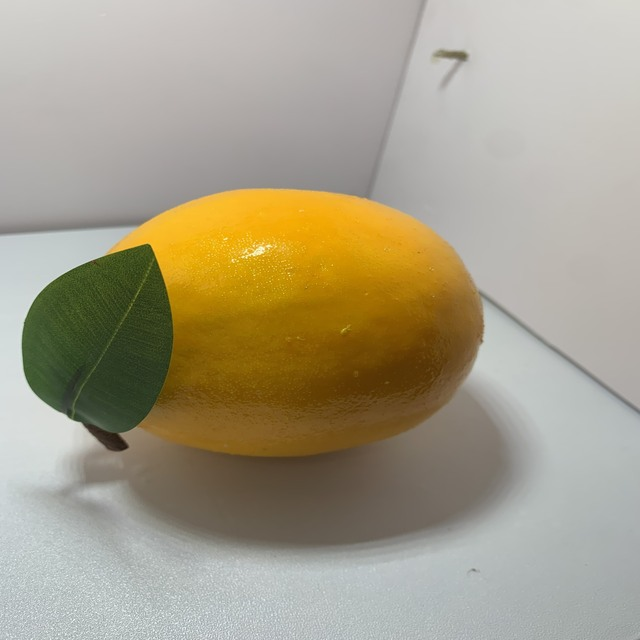Cam vang: (93, 184, 486, 469)
